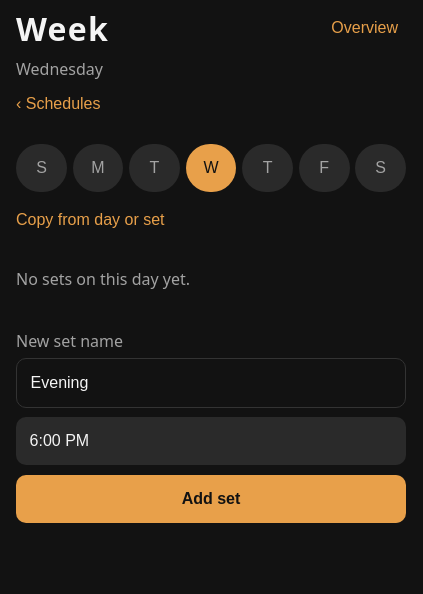
WeekEditorPage › surfaces add-set API errors
Step 1. Click the button "Add set" → (211,499), box x1=16 y1=475 x2=406 y2=523
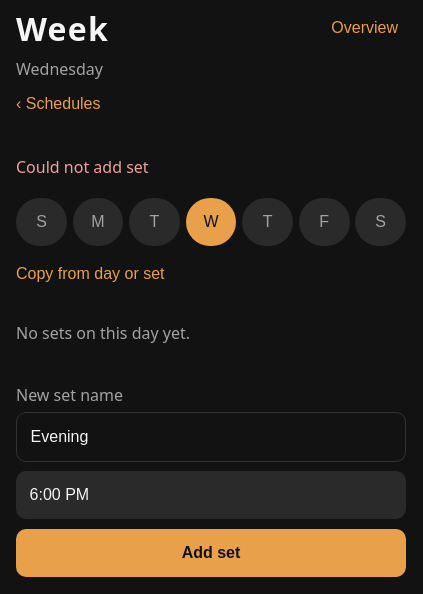
Expected: the message reads "Could not add set", x1=16 y1=156 x2=149 y2=178
